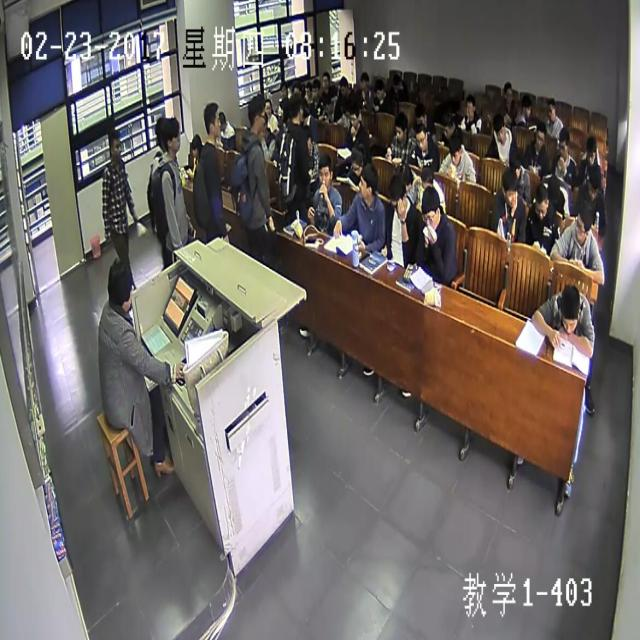person: (106, 257, 131, 310), (561, 284, 580, 332), (421, 184, 439, 230), (248, 95, 265, 132), (202, 100, 220, 134), (574, 205, 591, 240), (359, 162, 377, 195), (501, 166, 516, 204), (164, 117, 180, 152), (288, 91, 304, 123), (388, 175, 404, 205), (318, 155, 331, 191), (535, 183, 548, 219), (155, 118, 170, 148), (398, 163, 413, 190), (394, 111, 407, 140), (449, 136, 462, 165), (588, 170, 600, 200), (510, 149, 522, 177), (493, 112, 504, 142), (586, 137, 597, 167), (413, 124, 426, 149), (109, 132, 121, 158), (349, 149, 362, 173), (559, 128, 569, 159), (547, 174, 560, 197), (442, 114, 454, 138), (420, 162, 432, 186), (534, 124, 544, 151), (191, 133, 202, 157), (348, 105, 359, 128), (465, 93, 475, 118), (502, 80, 512, 105), (414, 105, 425, 127), (546, 97, 556, 121), (299, 96, 308, 119), (322, 96, 334, 113), (374, 78, 384, 98), (359, 72, 370, 90), (217, 108, 226, 129), (521, 95, 530, 116), (302, 133, 312, 151), (338, 75, 348, 93), (258, 112, 266, 132), (311, 77, 319, 97), (393, 73, 401, 91), (279, 80, 287, 97), (292, 82, 300, 99), (322, 71, 329, 89), (264, 99, 271, 116), (304, 83, 311, 97)
